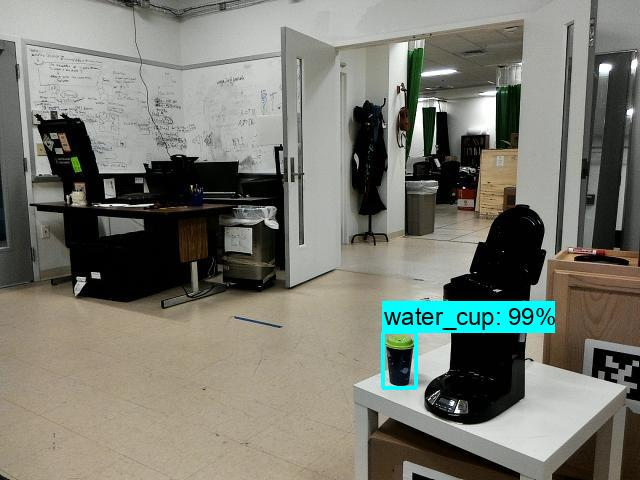water_cup: (381, 332, 416, 388)
